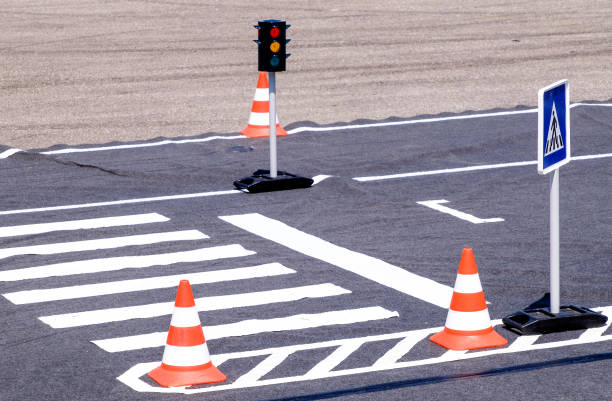yaya_gecidi_levha: (536, 80, 578, 172)
